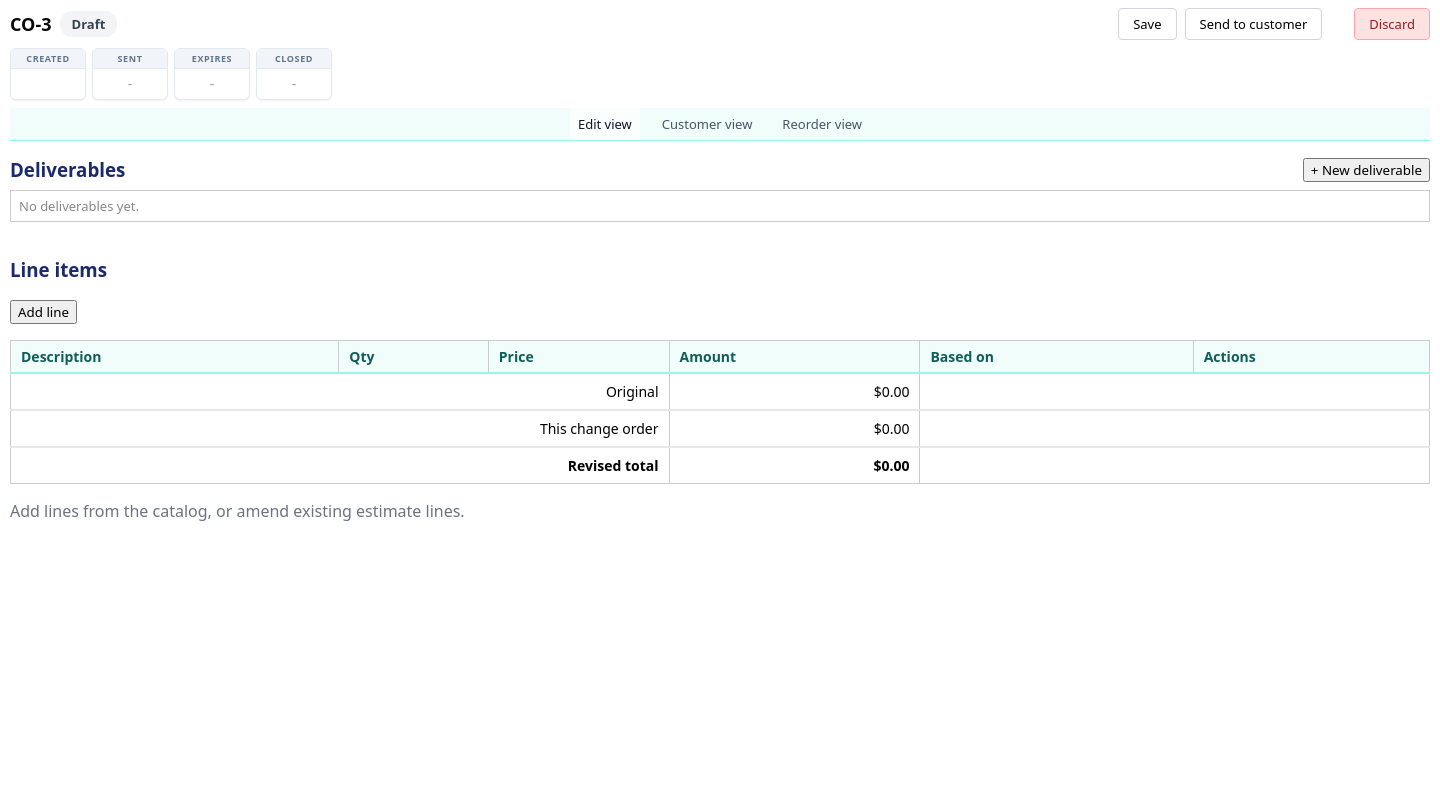
Test case: ChangeOrderPanel error display › shows the new-deliverable save failure in the inline form, not an alert
Click the button "+ New deliverable". click: {"x": 1366, "y": 170}
box: [1303,158,1430,182]
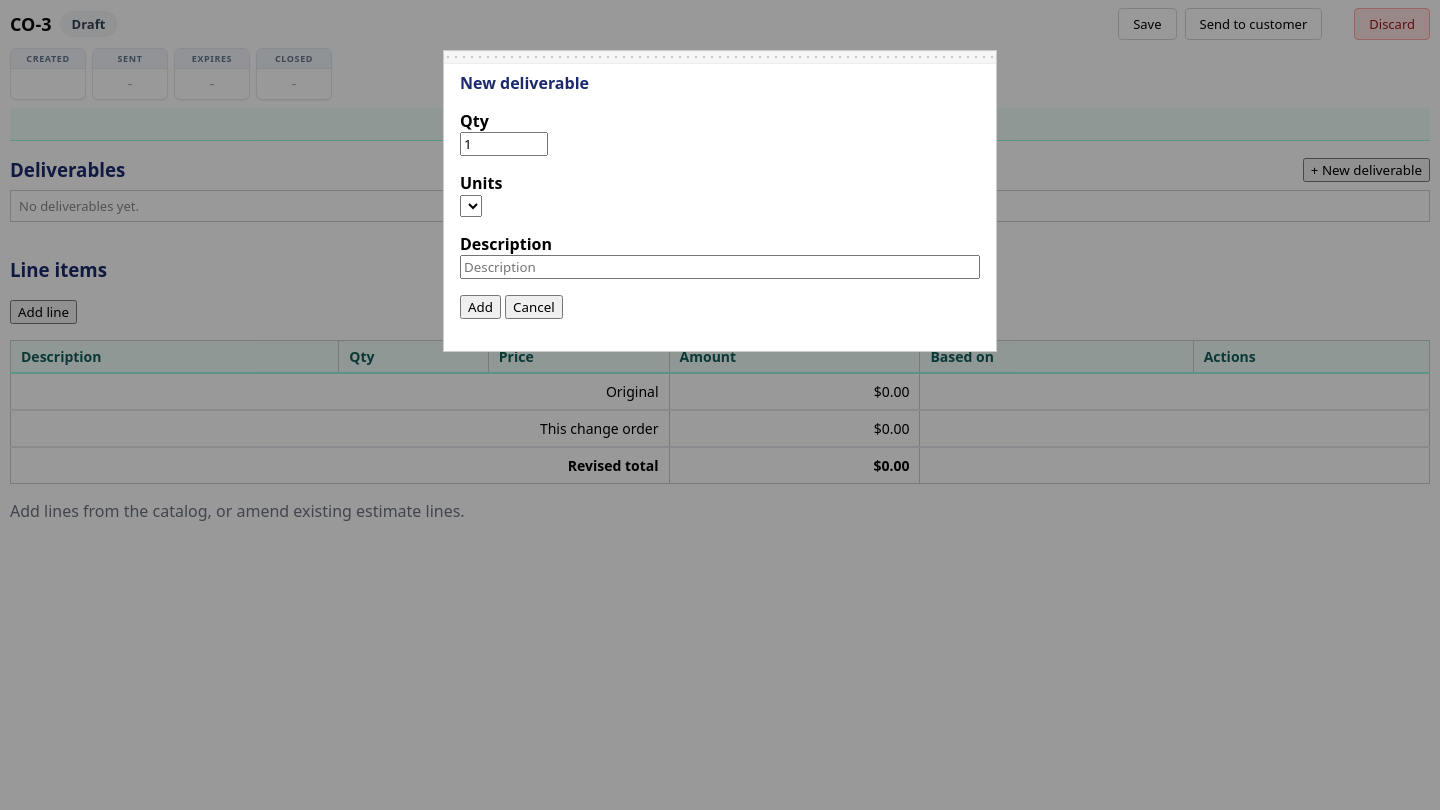
Type "Cabinet" into the field labelled "Description". click: {"x": 720, "y": 267}
box: [460,255,980,279]
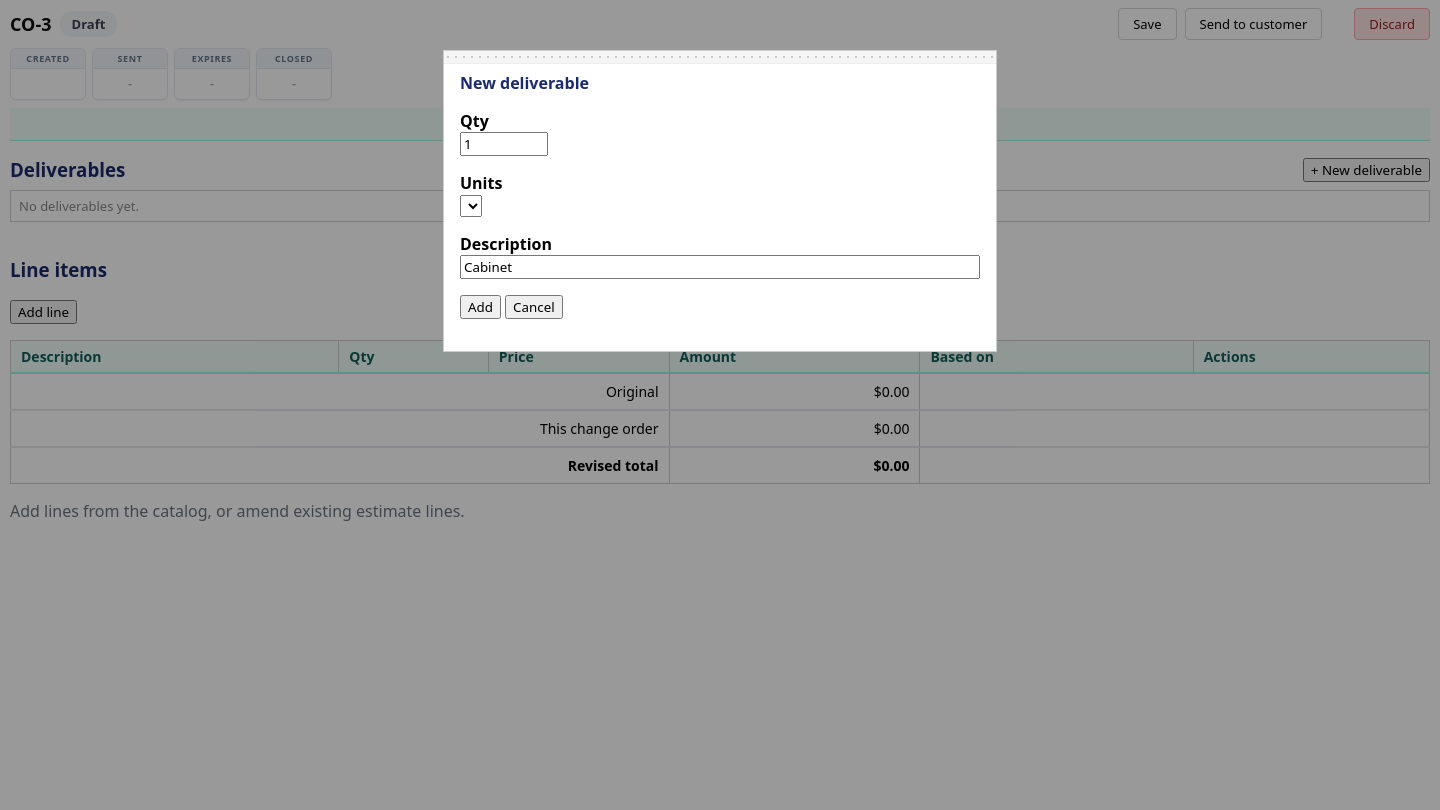
Click the button "Add". click: {"x": 480, "y": 307}
box: [460,295,501,319]
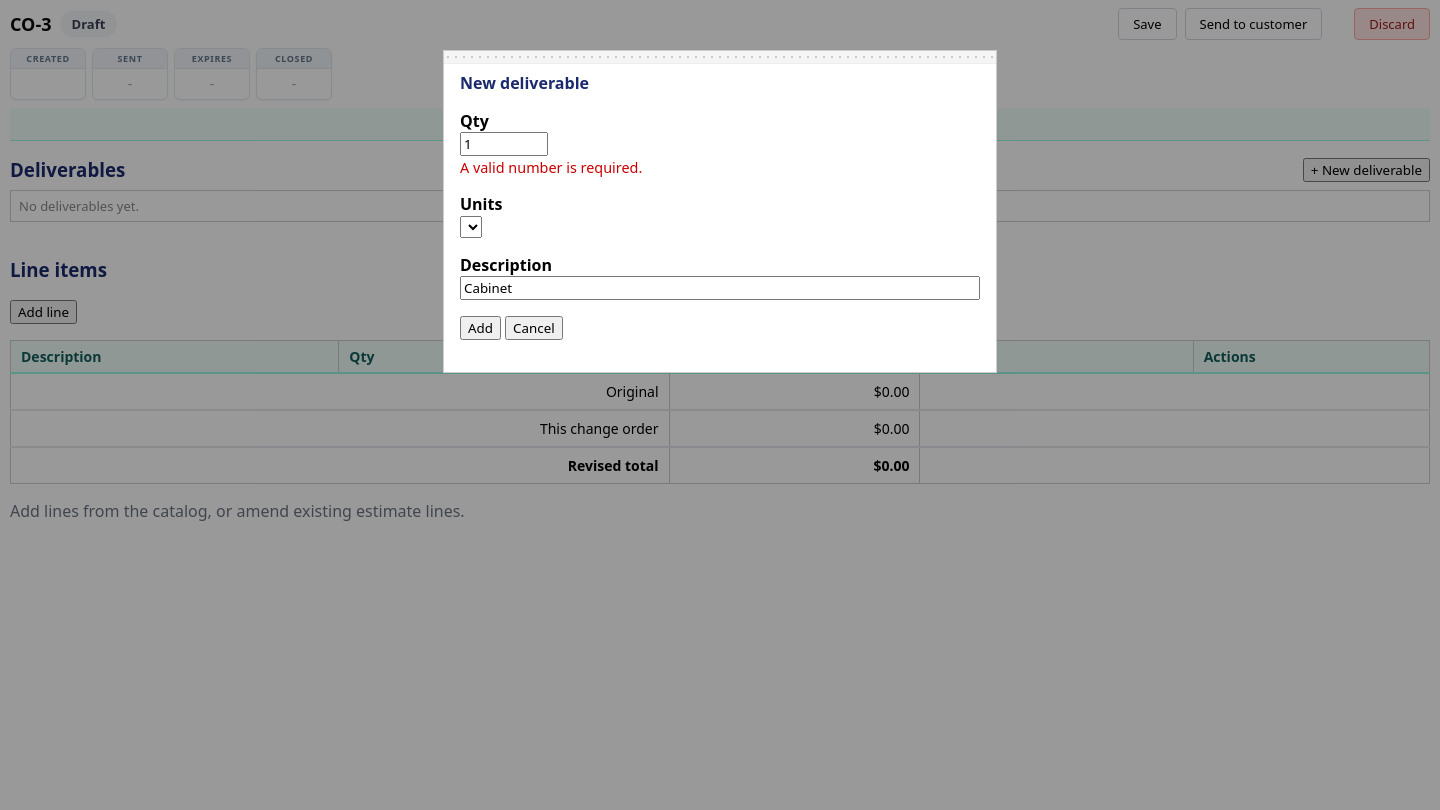
Check: the text "A valid number is required." is shown, box [460,158,642,177]
